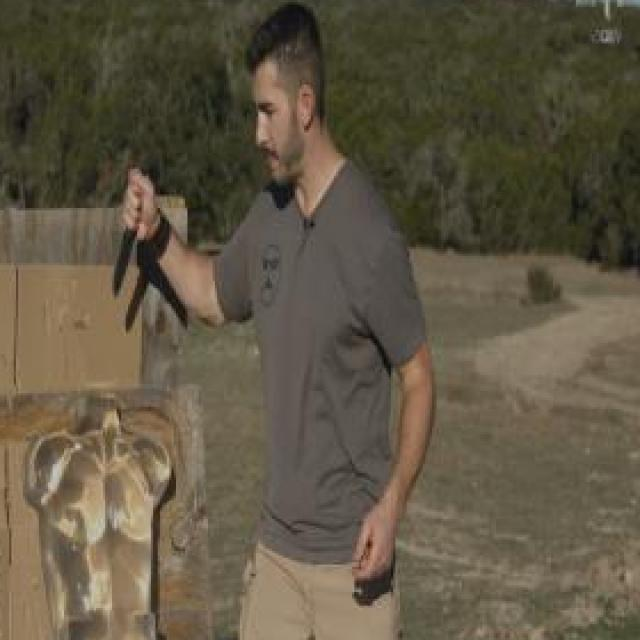knife: (109, 158, 158, 310)
